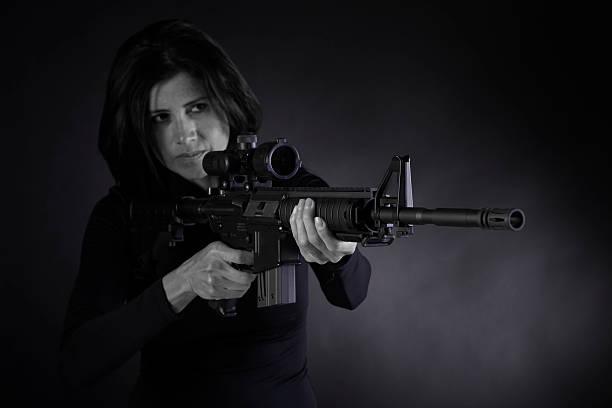gun: (129, 134, 528, 320)
